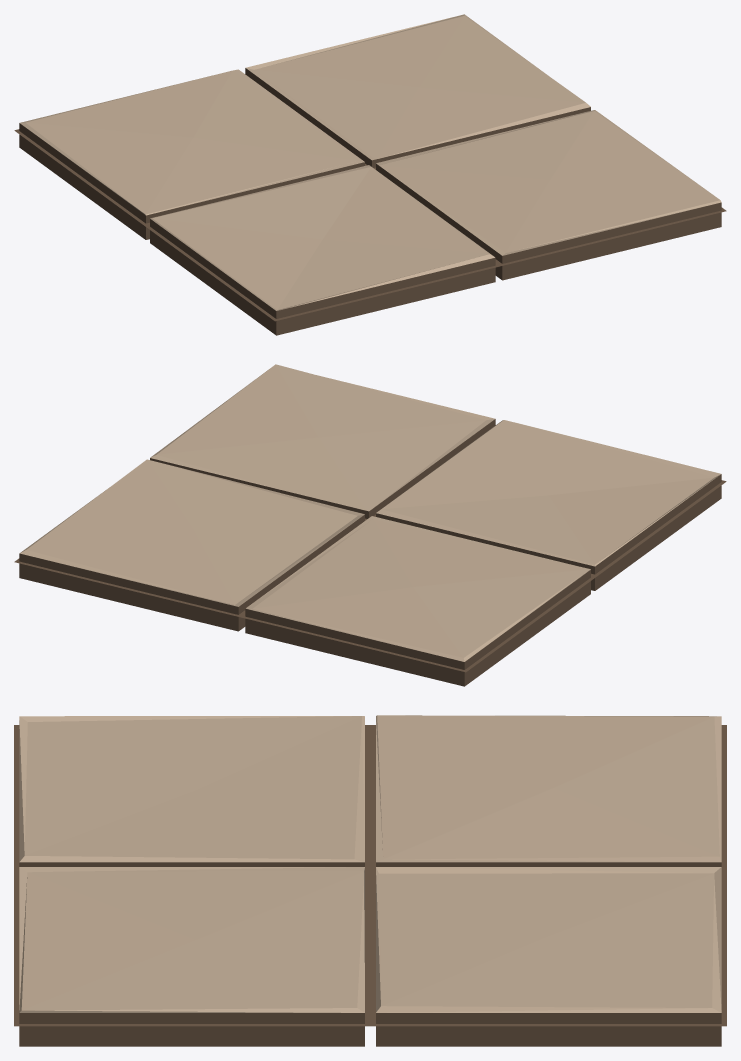
File: SM_Ground_PavingTile_Clean_06.fbx
3 renders of one model, top to bottom at view 1: azimuth 30°, elevation 25°; view 2: azimuth 150°, elevation 25°; view 3: azimuth 270°, elevation 25°, orthographic. The views are drawn at different scales.
Visible parts, largest first — view 1: SM_Ground_PavingTile_Clean_06; view 2: SM_Ground_PavingTile_Clean_06; view 3: SM_Ground_PavingTile_Clean_06.
Boxes of the visible parts, x1,y1,x2,y2 form: SM_Ground_PavingTile_Clean_06: (14,14,726,335); SM_Ground_PavingTile_Clean_06: (14,364,726,686); SM_Ground_PavingTile_Clean_06: (14,715,726,1046).
Size of the model in its own units: 1 by 0.0595 by 1.
Materials: 1 (1 with a texture image).
